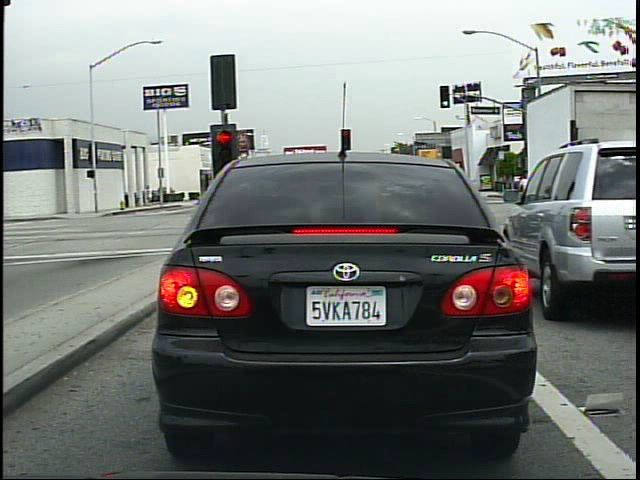person: (146, 181, 156, 209), (523, 168, 524, 200)
